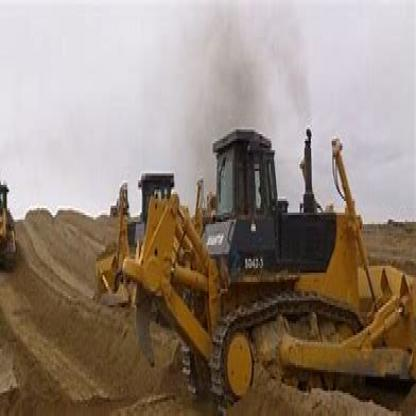bull_dozer/loader/grader: (109, 111, 415, 414)
